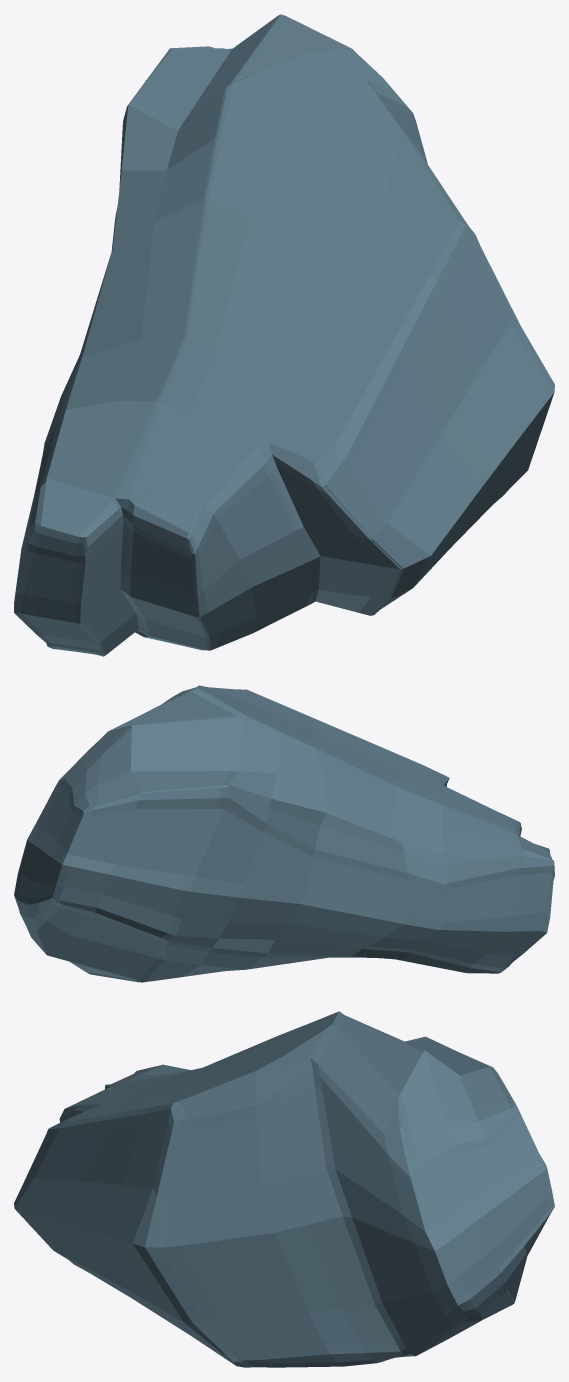
The model's file is ROCKS_SHARP_G_PRIM.fbx.
The picture shows the model from 3 angles, top to bottom: view 1: azimuth 30°, elevation 25°; view 2: azimuth 150°, elevation 25°; view 3: azimuth 270°, elevation 25°; orthographic projection. The views are drawn at different scales.
Parts seen in each view (by area): view 1: ROCKSSHARPG_PRIM; view 2: ROCKSSHARPG_PRIM; view 3: ROCKSSHARPG_PRIM.
Boxes of the visible parts, <box> form: ROCKSSHARPG_PRIM: <box>14,14,554,656</box>; ROCKSSHARPG_PRIM: <box>14,685,554,982</box>; ROCKSSHARPG_PRIM: <box>14,1011,554,1367</box>.
Bounding box in the file's own units: 21.45 × 14.33 × 23.13.
